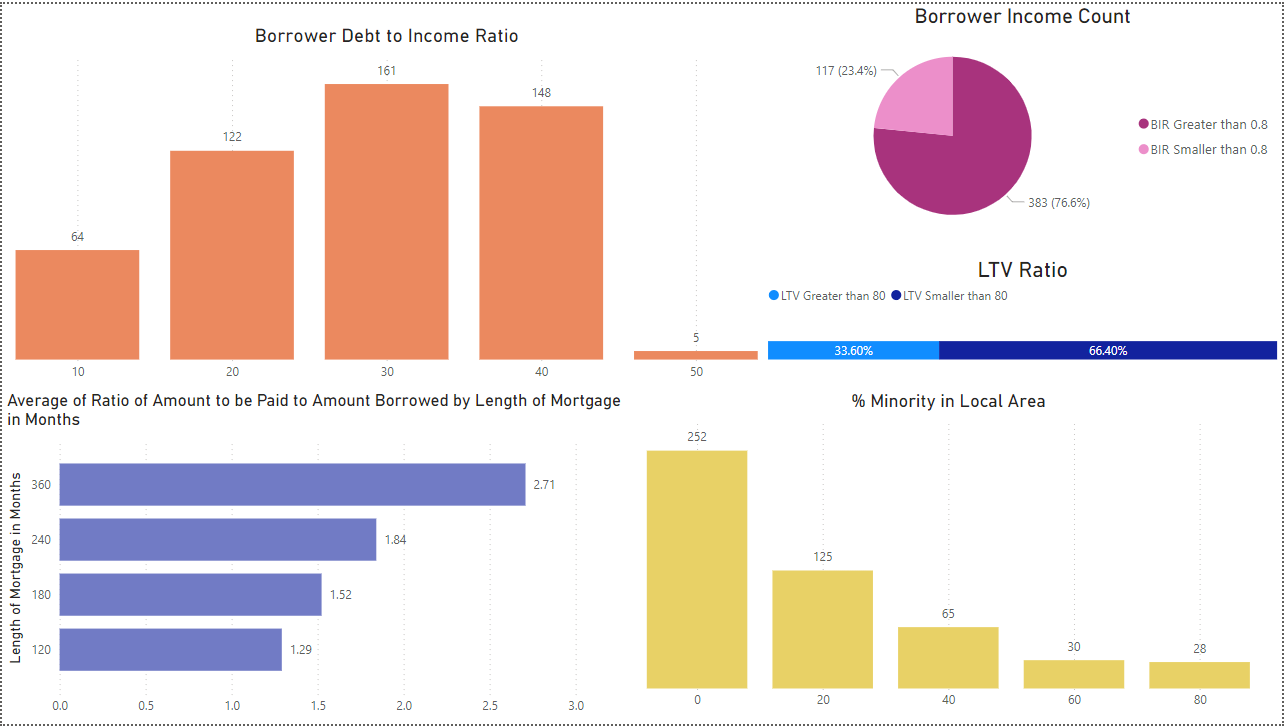

This screenshot's page, from the dashboard's own definition file:
{"tool":"powerbi","page":{"name":"Page 1","canvas":[1280,720],"ordinal":0},"visuals":[{"type":"columnChart","title":"Borrower Debt to Income Ratio","fields":{"Y":["CountNonNull(Table 1 (Sheet1).Age of Borrower)"],"Category":["Table 1 (Sheet1).Borrower Debt to Income Ratio (bins)"]},"box":[9,20.6,752.2,365.8],"z":0},{"type":"clusteredBarChart","title":"Average of Ratio of Amount to be Paid to Amount Borrowed by Length of Mortgage in Months","fields":{"Category":["Table 1 (Sheet1).Length of Mortgage in Months"],"Y":["Avg(Table 1 (Sheet1).ratio of amount to paid to amount borrowed)"]},"box":[0,386.4,640.1,333.6],"z":1000},{"type":"pieChart","title":"Borrower Income Count","fields":{"Y":["Table 1 (Sheet1).Count_Grater_Than_0_8","Table 1 (Sheet1).Count_Smaller_Than_0_8"]},"box":[761.2,0,519.1,240.9],"z":2000},{"type":"columnChart","title":"% Minority in Local Area","fields":{"Y":["CountNonNull(Table 1 (Sheet1).Age of Borrower)"],"Category":["Table 1 (Sheet1).% Minority in Local Area (bins)"]},"box":[640.1,386.4,613.1,328.4],"z":3000},{"type":"hundredPercentStackedBarChart","title":"LTV Ratio","fields":{"Y":["Table 1 (Sheet1).LTV_Greater_80","Table 1 (Sheet1).LTV_Smaller_80"]},"box":[761.2,252.4,519.1,134],"z":3001}]}

Visuals, with their boxes in screenshot pixels (x1, y1, x2, y2), scaled from the page's 1280x720 canvas onto the 1285x726 screenshot:
"Borrower Debt to Income Ratio" columnChart: bbox(9, 21, 764, 390)
"Average of Ratio of Amount to be Paid to Amount Borrowed by Length of Mortgage in Months" clusteredBarChart: bbox(0, 390, 643, 725)
"Borrower Income Count" pieChart: bbox(764, 0, 1284, 243)
"% Minority in Local Area" columnChart: bbox(643, 390, 1258, 721)
"LTV Ratio" hundredPercentStackedBarChart: bbox(764, 255, 1284, 390)
